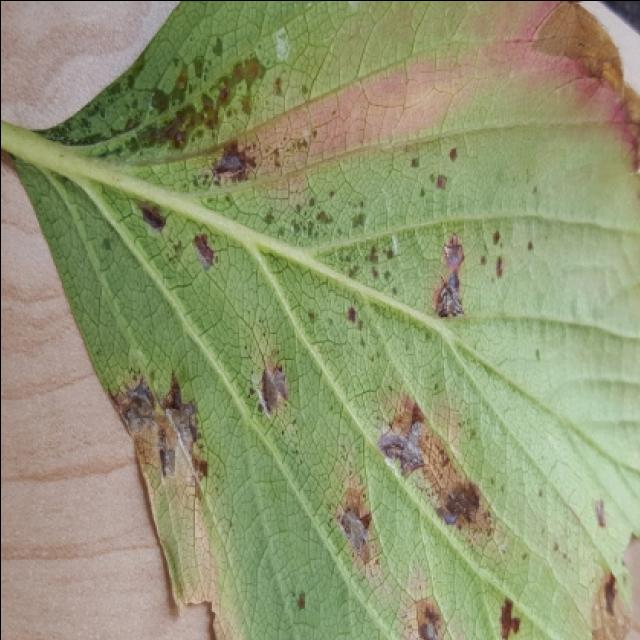Angular Leafspot: (16, 2, 640, 640)
